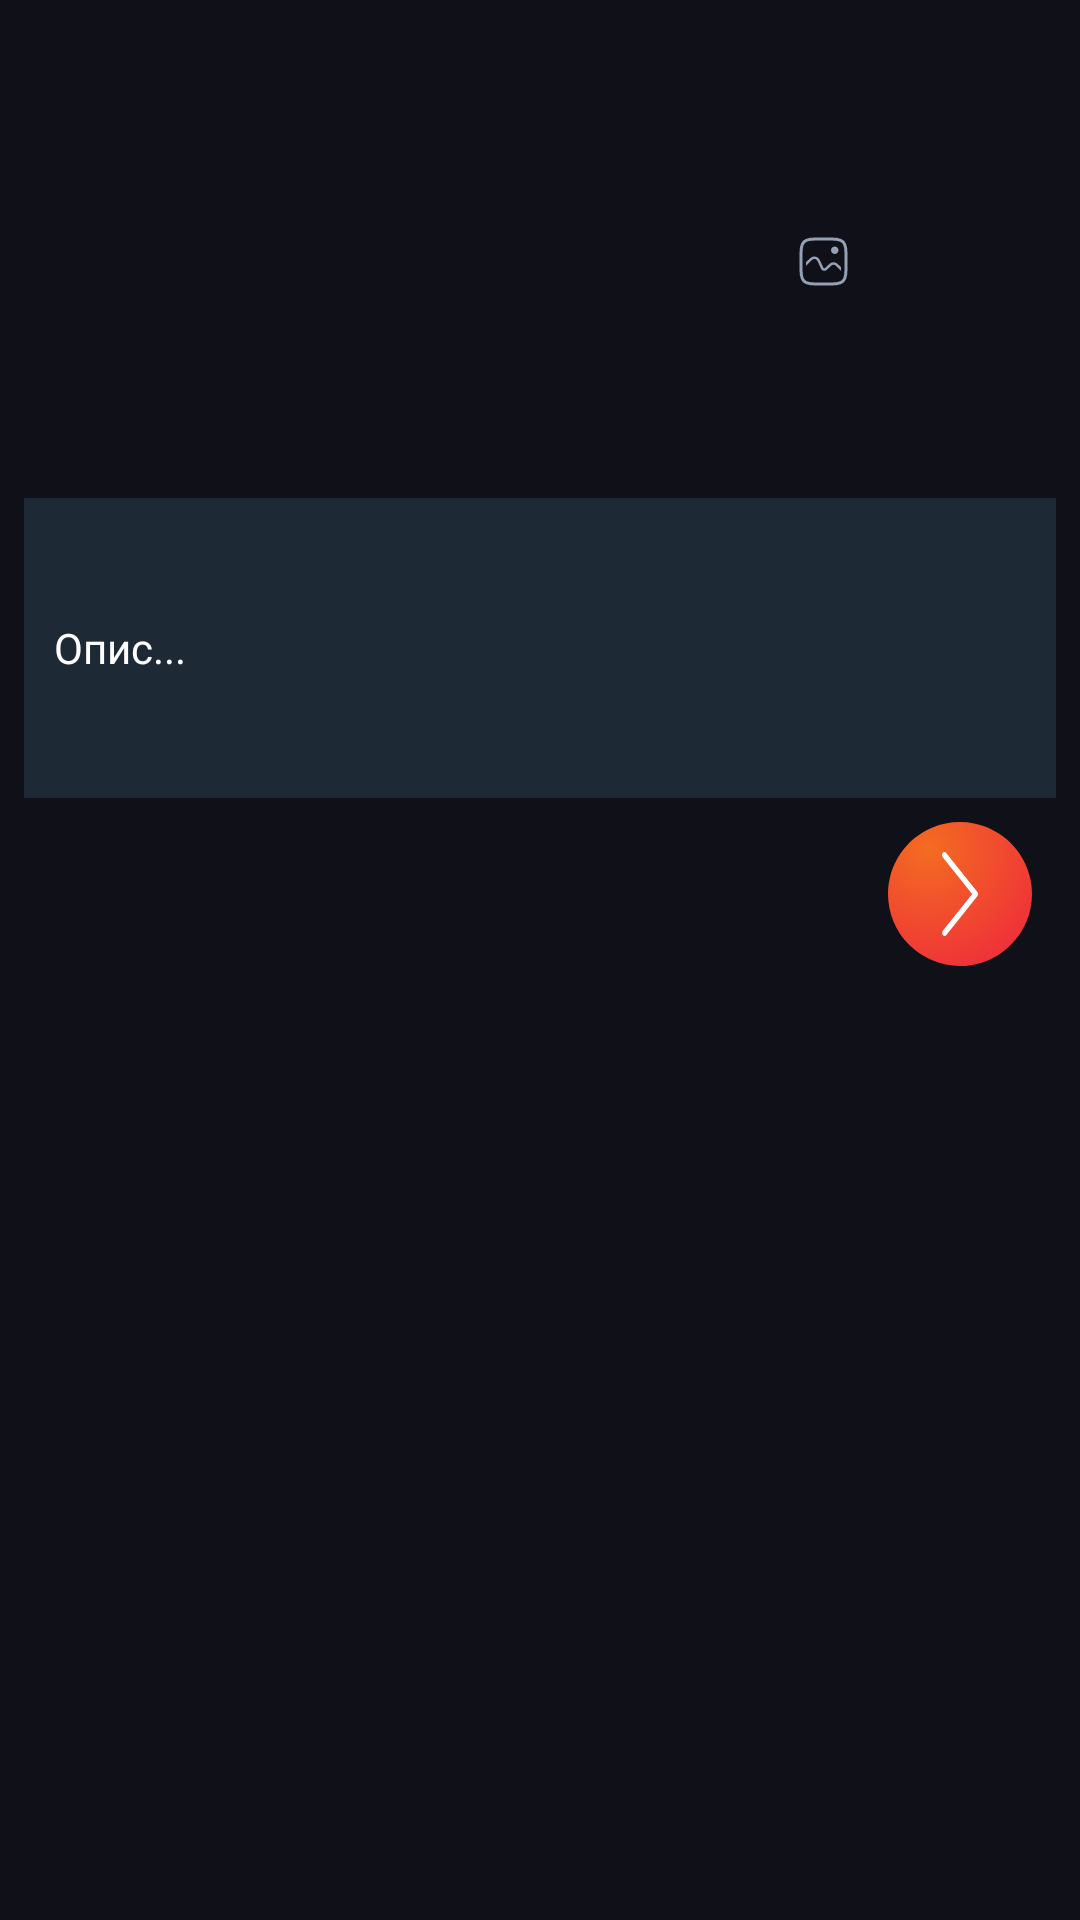

Where icons sit on this 1080x1920 app screen, as {"x1": x1, "y1": y1, "x2": x2, "y2": y2}:
send: {"x1": 888, "y1": 822, "x2": 1032, "y2": 966}
